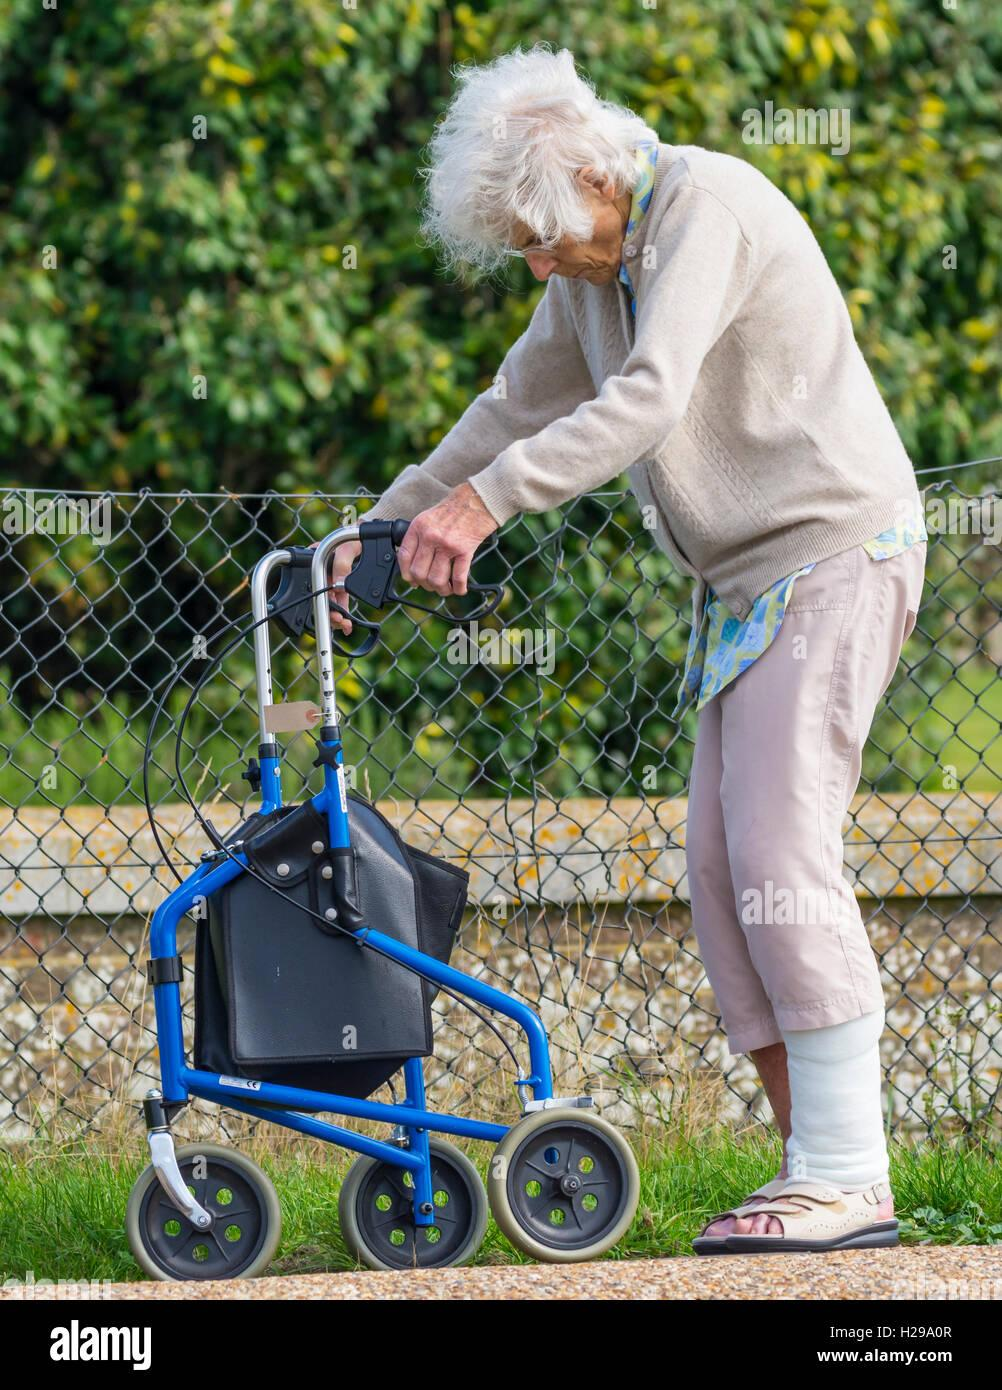walking_frame: (127, 42, 925, 1289)
